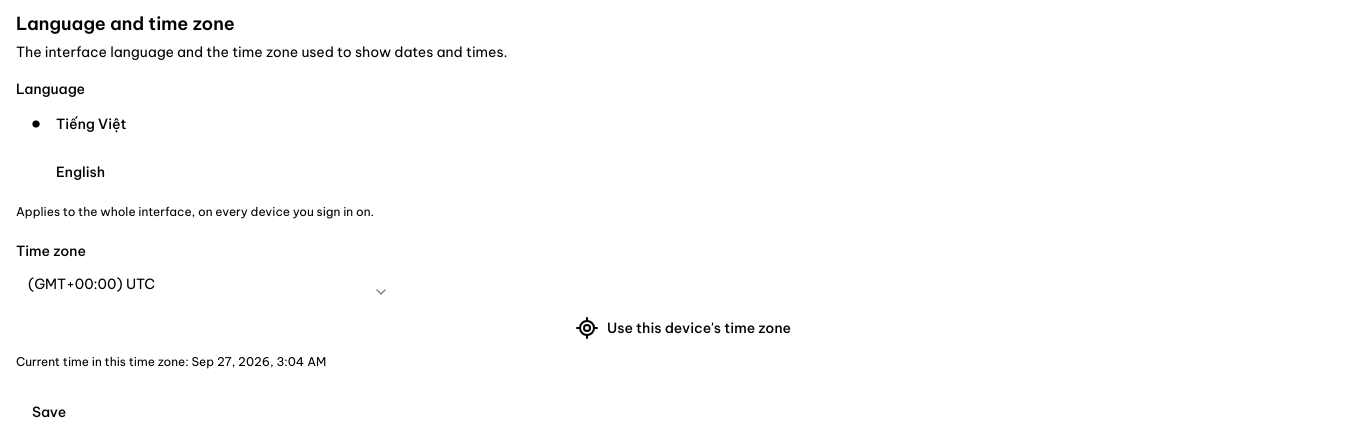
PreferencesSection › previews the current time in the chosen zone and can use the device zone
Expected: the text "Current time in this time zone: Sep 27, 2026, 3:04 AM" is shown, [16,354,326,369]
Click the button "Use this device's time zone" at coordinates (683, 328), box [16,310,1350,346]
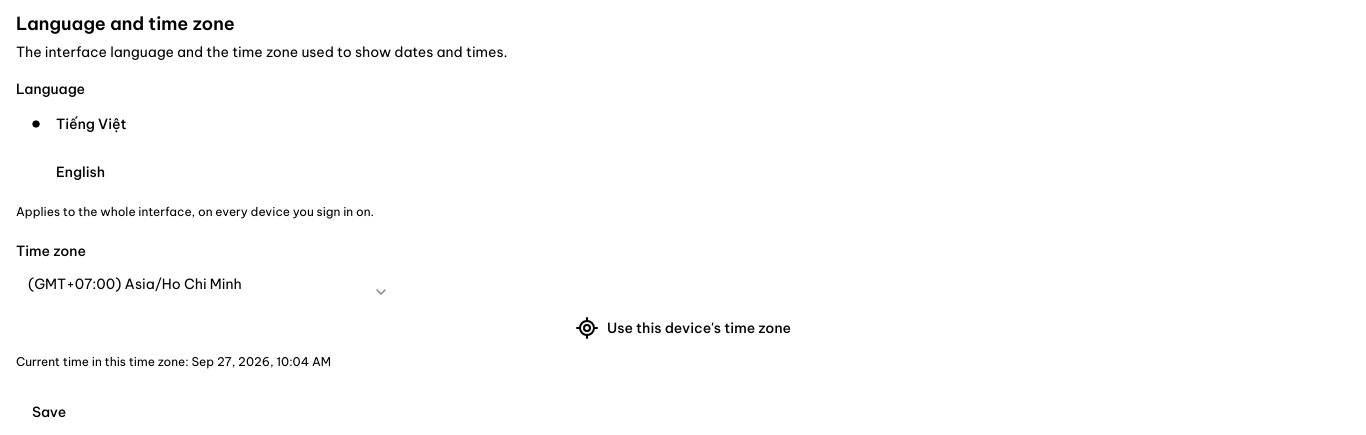
Now the dropdown labelled "Time zone" shows "(GMT+07:00) Asia/Ho Chi Minh", box [16,266,403,302]
Now the text "Current time in this time zone: Sep 27, 2026, 10:04 AM" is shown, box [16,354,331,369]
